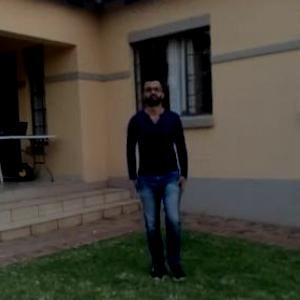follow: (126, 69, 187, 249)
